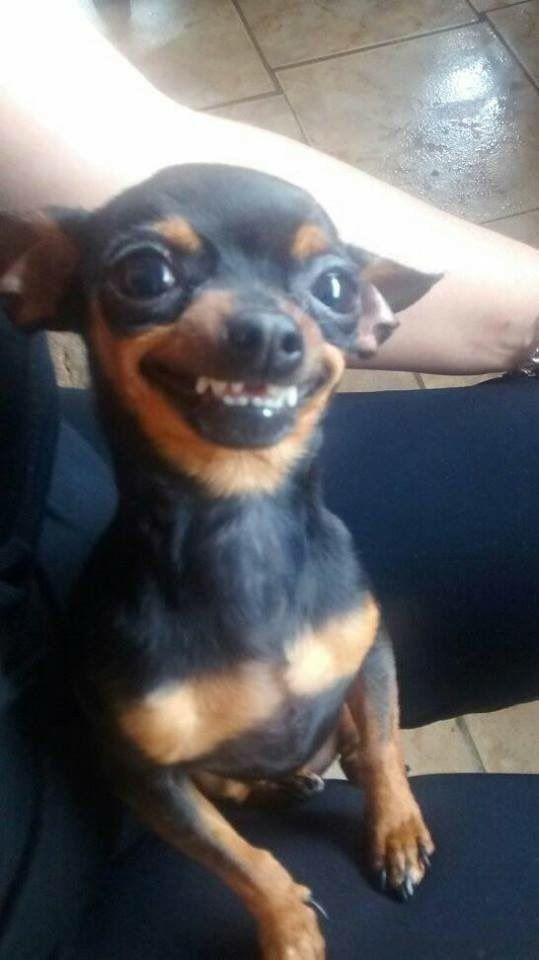dog: (1, 160, 446, 959)
